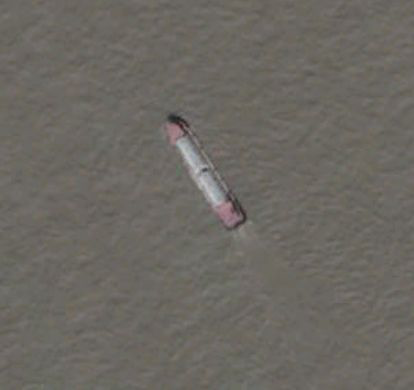boat: (162, 113, 248, 232)
